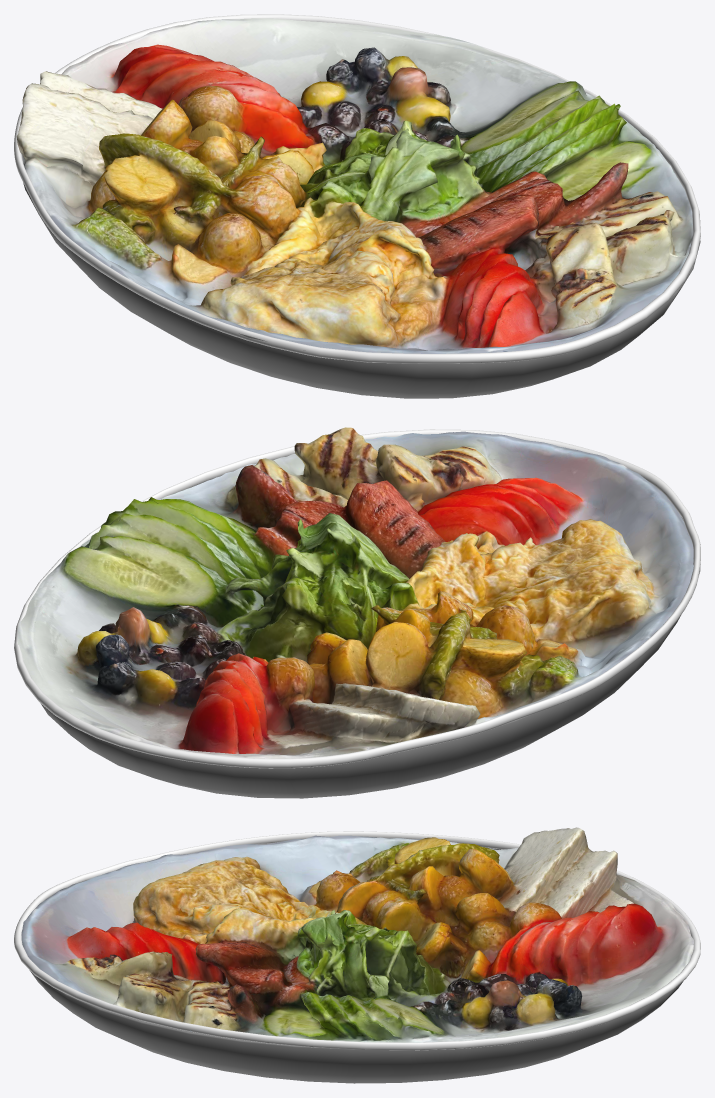
The model's file is dish-of-the-day.glb.
3 renders of one model, top to bottom at view 1: azimuth 30°, elevation 25°; view 2: azimuth 150°, elevation 25°; view 3: azimuth 270°, elevation 25°, orthographic. The views are drawn at different scales.
Visible parts, largest first — view 1: baked_mesh, Circle, BézierCircle.001; view 2: baked_mesh, Circle, BézierCircle.001; view 3: baked_mesh, Circle, BézierCircle.001.
Part boxes in pixels (left/top/right/bottom): baked_mesh: left=16, top=18, right=693, bottom=353; Circle: left=22, top=155, right=700, bottom=398; BézierCircle.001: left=14, top=14, right=700, bottom=363; baked_mesh: left=17, top=427, right=693, bottom=758; Circle: left=40, top=517, right=700, bottom=798; BézierCircle.001: left=14, top=429, right=700, bottom=768; baked_mesh: left=21, top=827, right=693, bottom=1042; Circle: left=29, top=837, right=683, bottom=1083; BézierCircle.001: left=14, top=831, right=700, bottom=1050.
Bounding box in the file's own units: 0.8368 × 0.1906 × 1.14.
3 materials, 1 textured.
